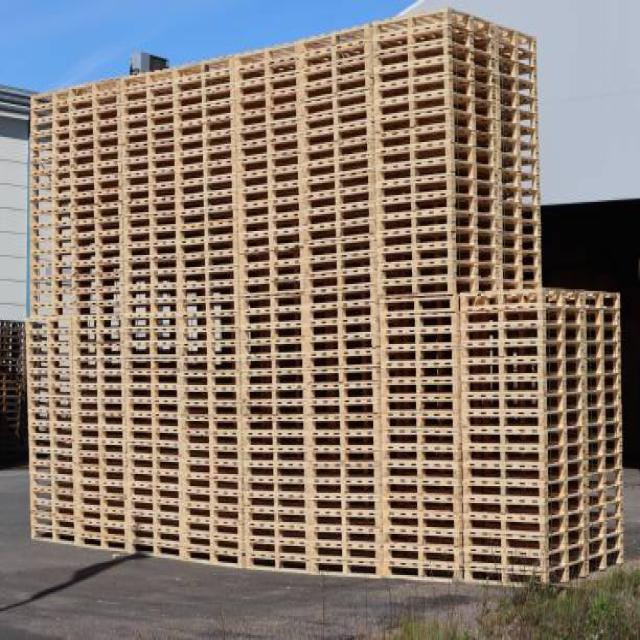Wooden-Pallets: (30, 7, 625, 586)
